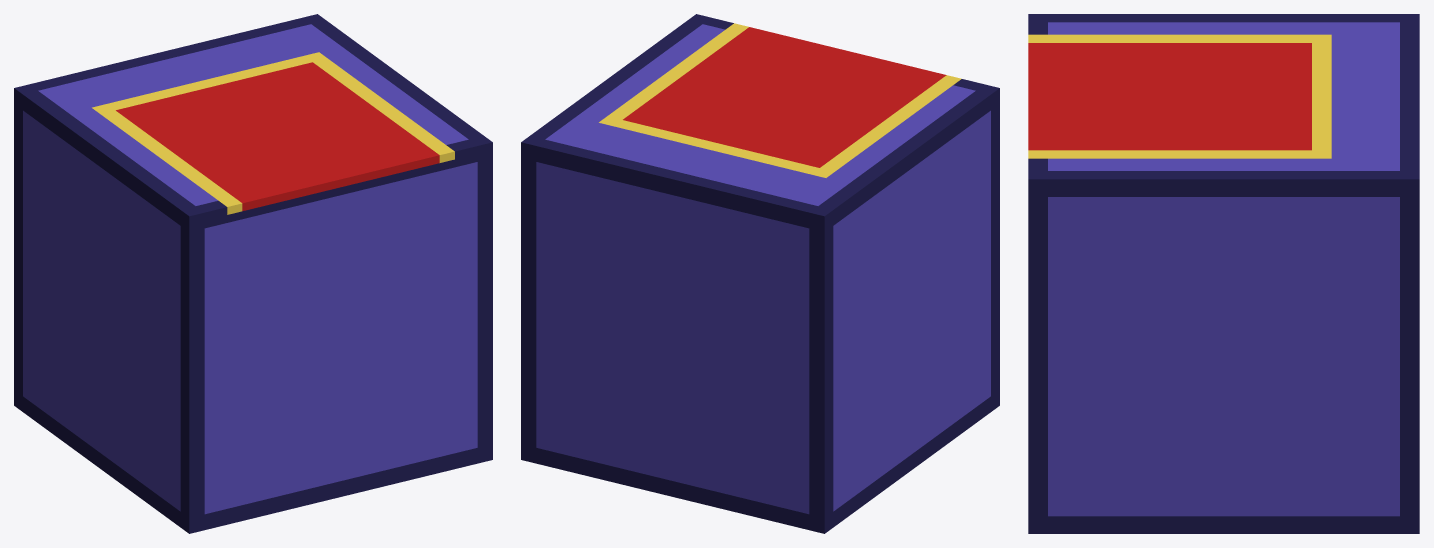
File: floorCarpetEnd.obj
The picture shows the model from 3 angles, left to right: view 1: azimuth 30°, elevation 25°; view 2: azimuth 150°, elevation 25°; view 3: azimuth 270°, elevation 25°; orthographic projection. The views are drawn at different scales.
Bounding box in the file's own units: 4 × 4 × 4.
Materials: 1 (1 with a texture image).
